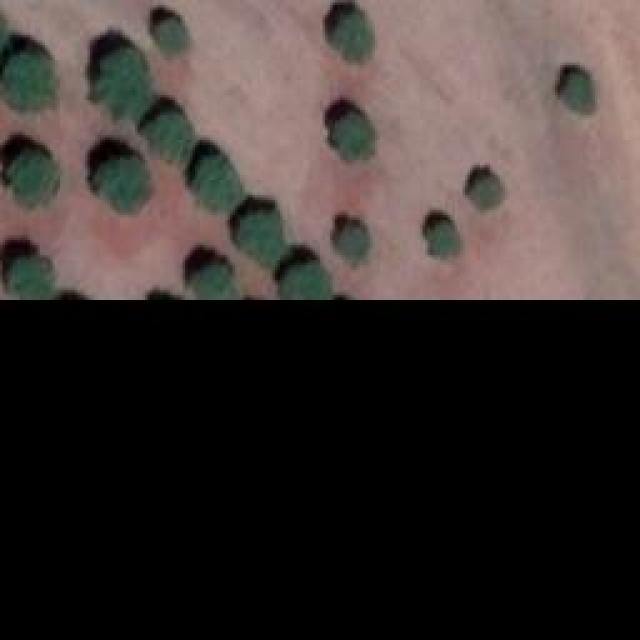Tree: (85, 45, 150, 123), (3, 52, 66, 110), (135, 108, 193, 171), (92, 158, 150, 213), (13, 145, 63, 208), (190, 150, 238, 213), (235, 208, 285, 268), (325, 3, 373, 63), (330, 110, 375, 160), (280, 258, 333, 298), (188, 260, 241, 298), (8, 253, 53, 296), (425, 215, 463, 260), (555, 68, 593, 111), (335, 220, 370, 265), (470, 172, 505, 210), (155, 15, 188, 55)
